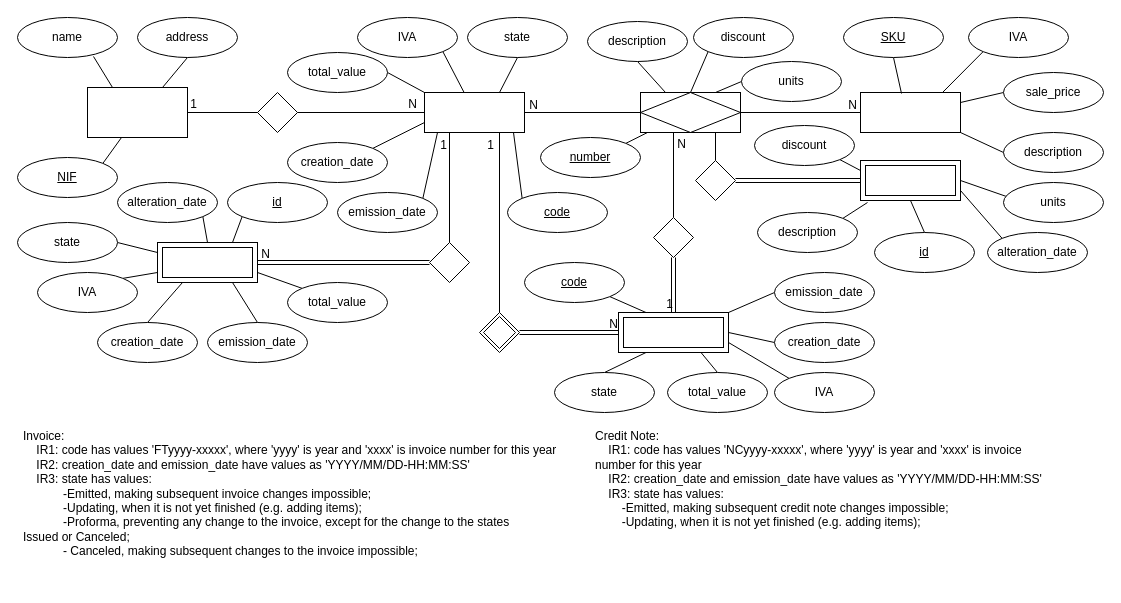
Image size: 1121x603. Some labels were removed from this diagram. Here are the shapes that lost their labels. From the top down, the centre of each, then its label:
the point at 137,112: Contributor
the point at 474,112: Invoice
the point at 690,112: Item
the point at 910,112: Product
the point at 910,180: Item History
the point at 207,262: Invoice History
the point at 673,332: Credit Note
